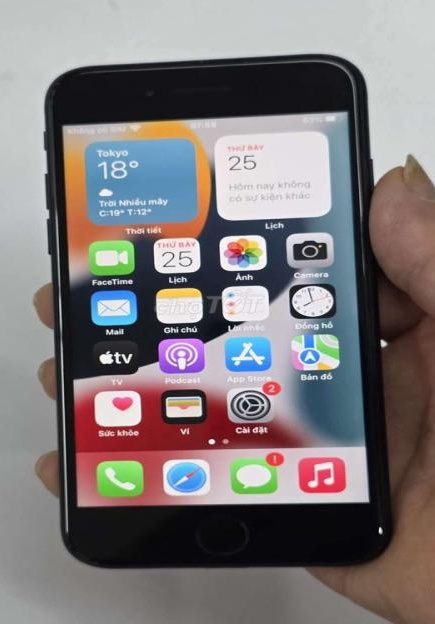scratch: (46, 164, 73, 536)
screen_defect: (375, 526, 387, 535)
